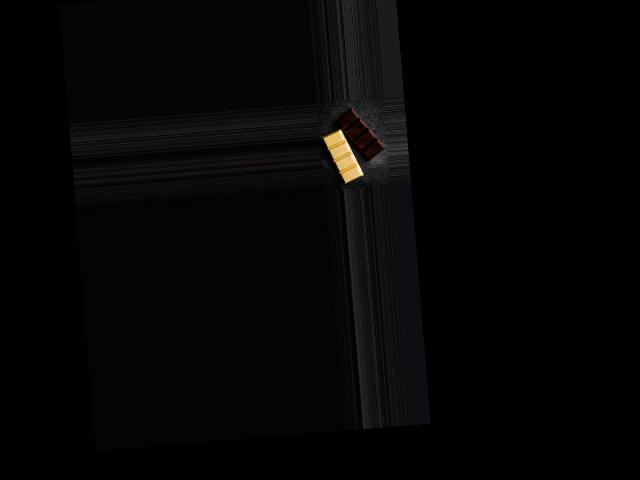chocolate: (320, 106, 386, 188)
